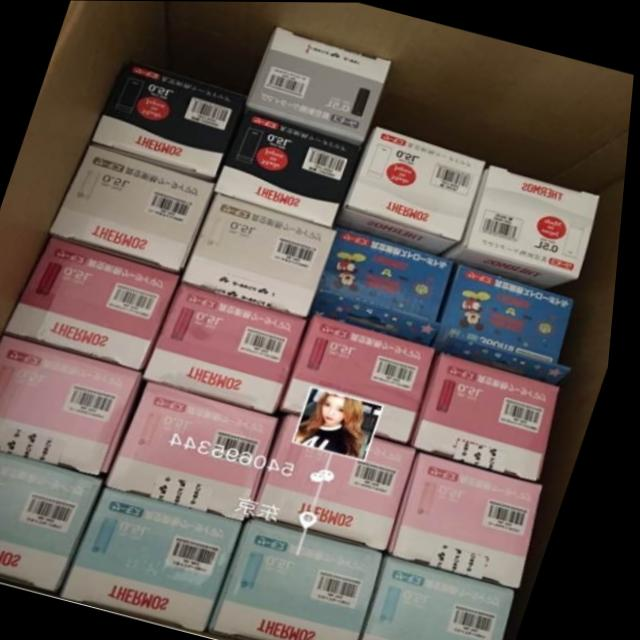box: (0, 0, 635, 640), (70, 487, 253, 633), (114, 381, 288, 521), (11, 235, 187, 370), (260, 408, 427, 550), (219, 514, 397, 640), (50, 143, 222, 271), (283, 309, 446, 443), (149, 283, 316, 412), (395, 450, 549, 588), (0, 336, 146, 479), (183, 192, 344, 318), (416, 350, 568, 480), (444, 163, 601, 288), (336, 124, 486, 253), (93, 57, 246, 183), (436, 260, 580, 385), (217, 105, 366, 224), (245, 27, 391, 142), (318, 227, 459, 345), (0, 450, 112, 593), (372, 555, 526, 640)
